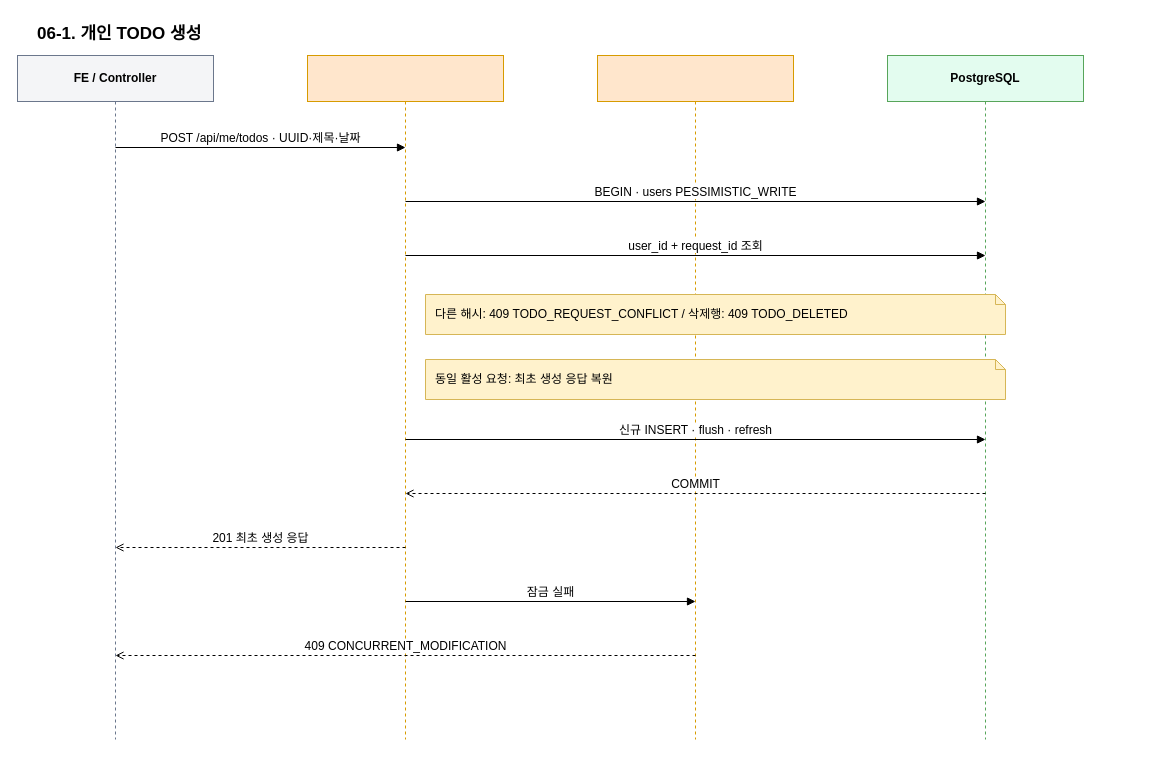
Some shapes in this 1153 by 757 pixel diagram are drawn without their labels. The shapes that lost their labels are listed below. From the top down, each one's box as (x1, y1, x2, y2) in pixels, then its label:
(306, 54, 504, 740): PersonalTodoService
(596, 54, 794, 740): CoreviaExceptionHandler
